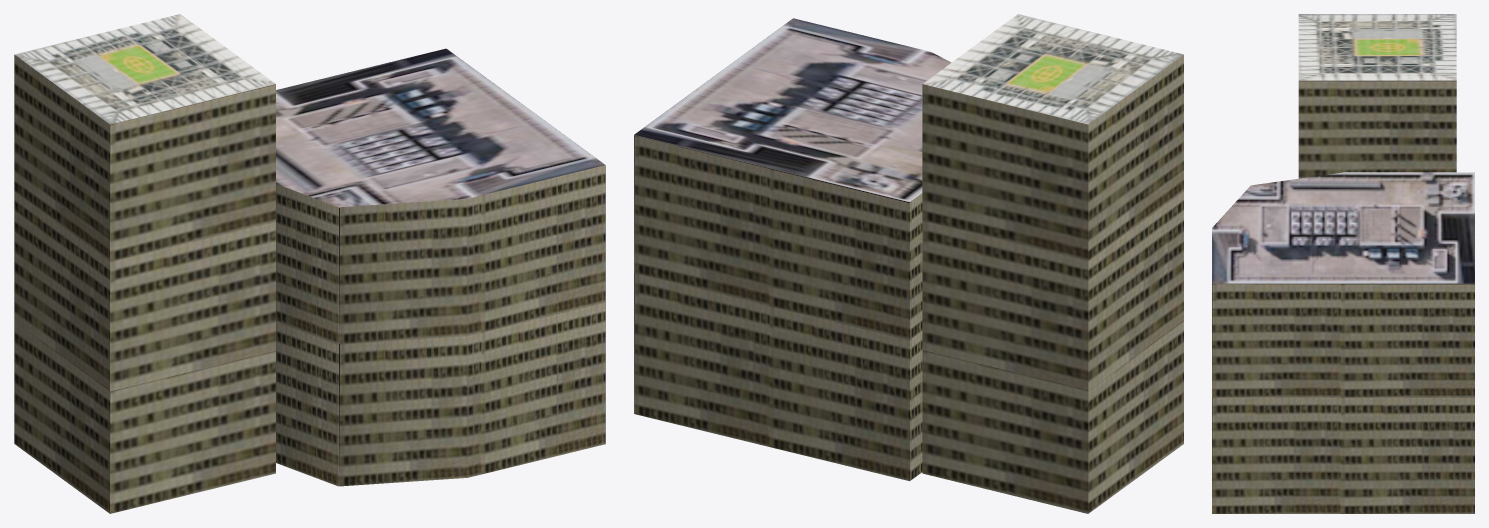
Rendered from bill9.fbx.
The picture shows the model from 3 angles, left to right: view 1: azimuth 30°, elevation 25°; view 2: azimuth 150°, elevation 25°; view 3: azimuth 270°, elevation 25°; orthographic projection. The views are drawn at different scales.
Parts seen in each view (by area): view 1: bill9; view 2: bill9; view 3: bill9.
Part boxes in pixels (bbox=[...]): bill9: bbox=[14, 14, 605, 513]; bill9: bbox=[634, 14, 1183, 513]; bill9: bbox=[1212, 14, 1474, 513].
Size of the model in its own units: 321 by 270 by 200.
